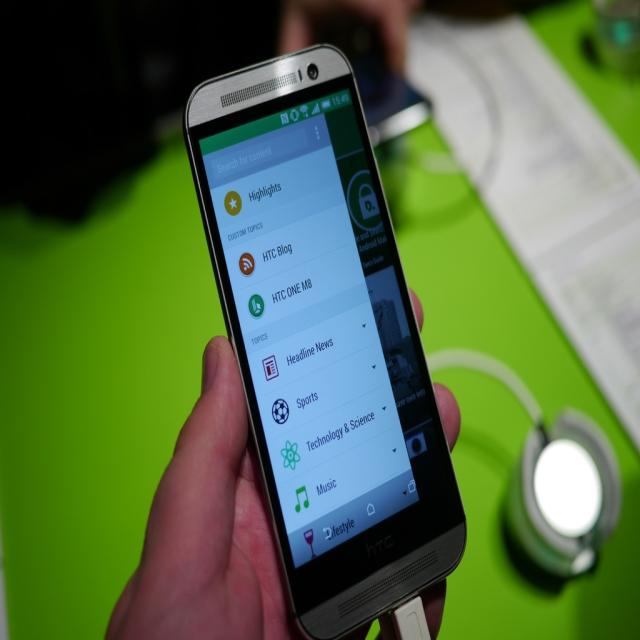Mobile-phone: (188, 35, 470, 634), (348, 39, 433, 150)
